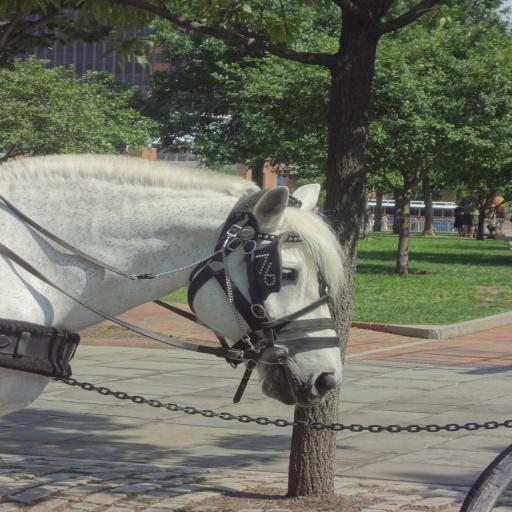horse: (0, 154, 349, 416)
